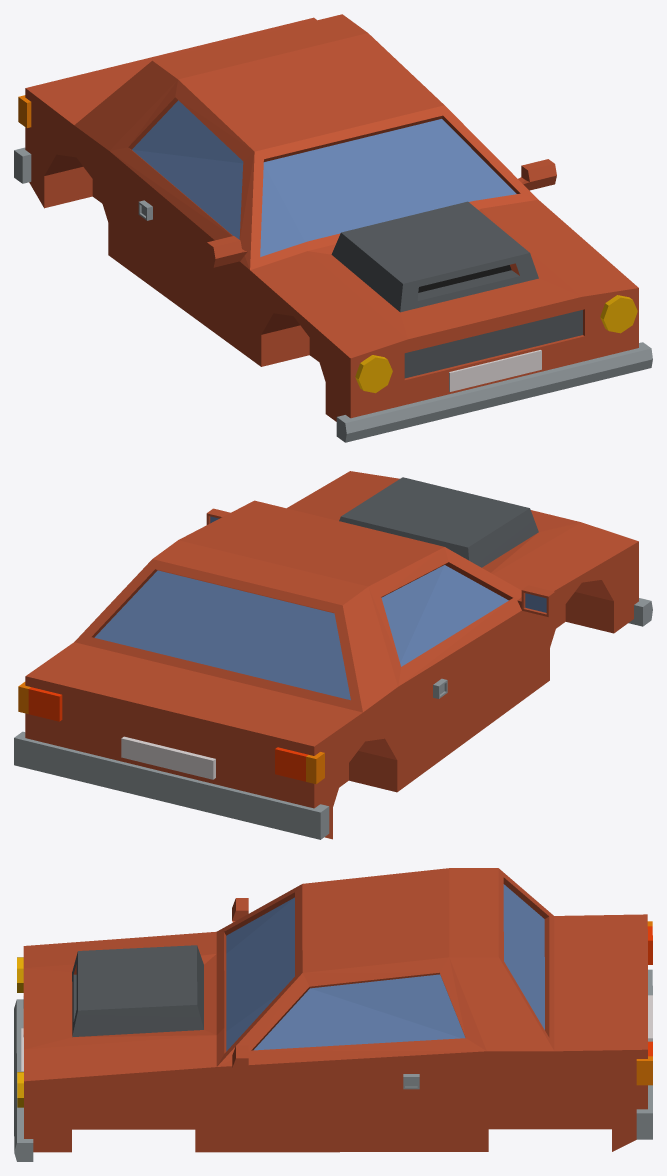
File: Car_06.fbx
3 renders of one model, top to bottom at view 1: azimuth 30°, elevation 25°; view 2: azimuth 150°, elevation 25°; view 3: azimuth 270°, elevation 25°, orthographic. The views are drawn at different scales.
Visible parts, largest first — view 1: Car_06; view 2: Car_06; view 3: Car_06.
Boxes of the visible parts, bbox=[...] form: Car_06: bbox=[14, 14, 652, 442]; Car_06: bbox=[14, 471, 652, 839]; Car_06: bbox=[14, 868, 652, 1161].
Bounding box in the file's own units: 4.08 × 2.1 × 6.88.
